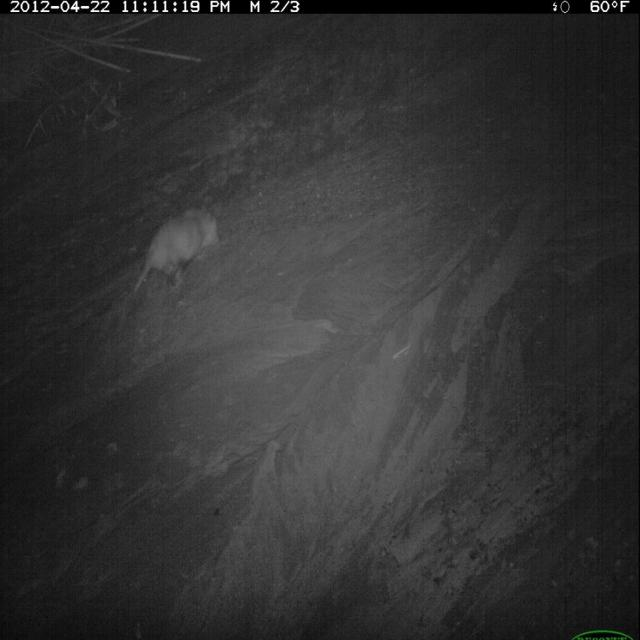opossum: (129, 202, 223, 302)
